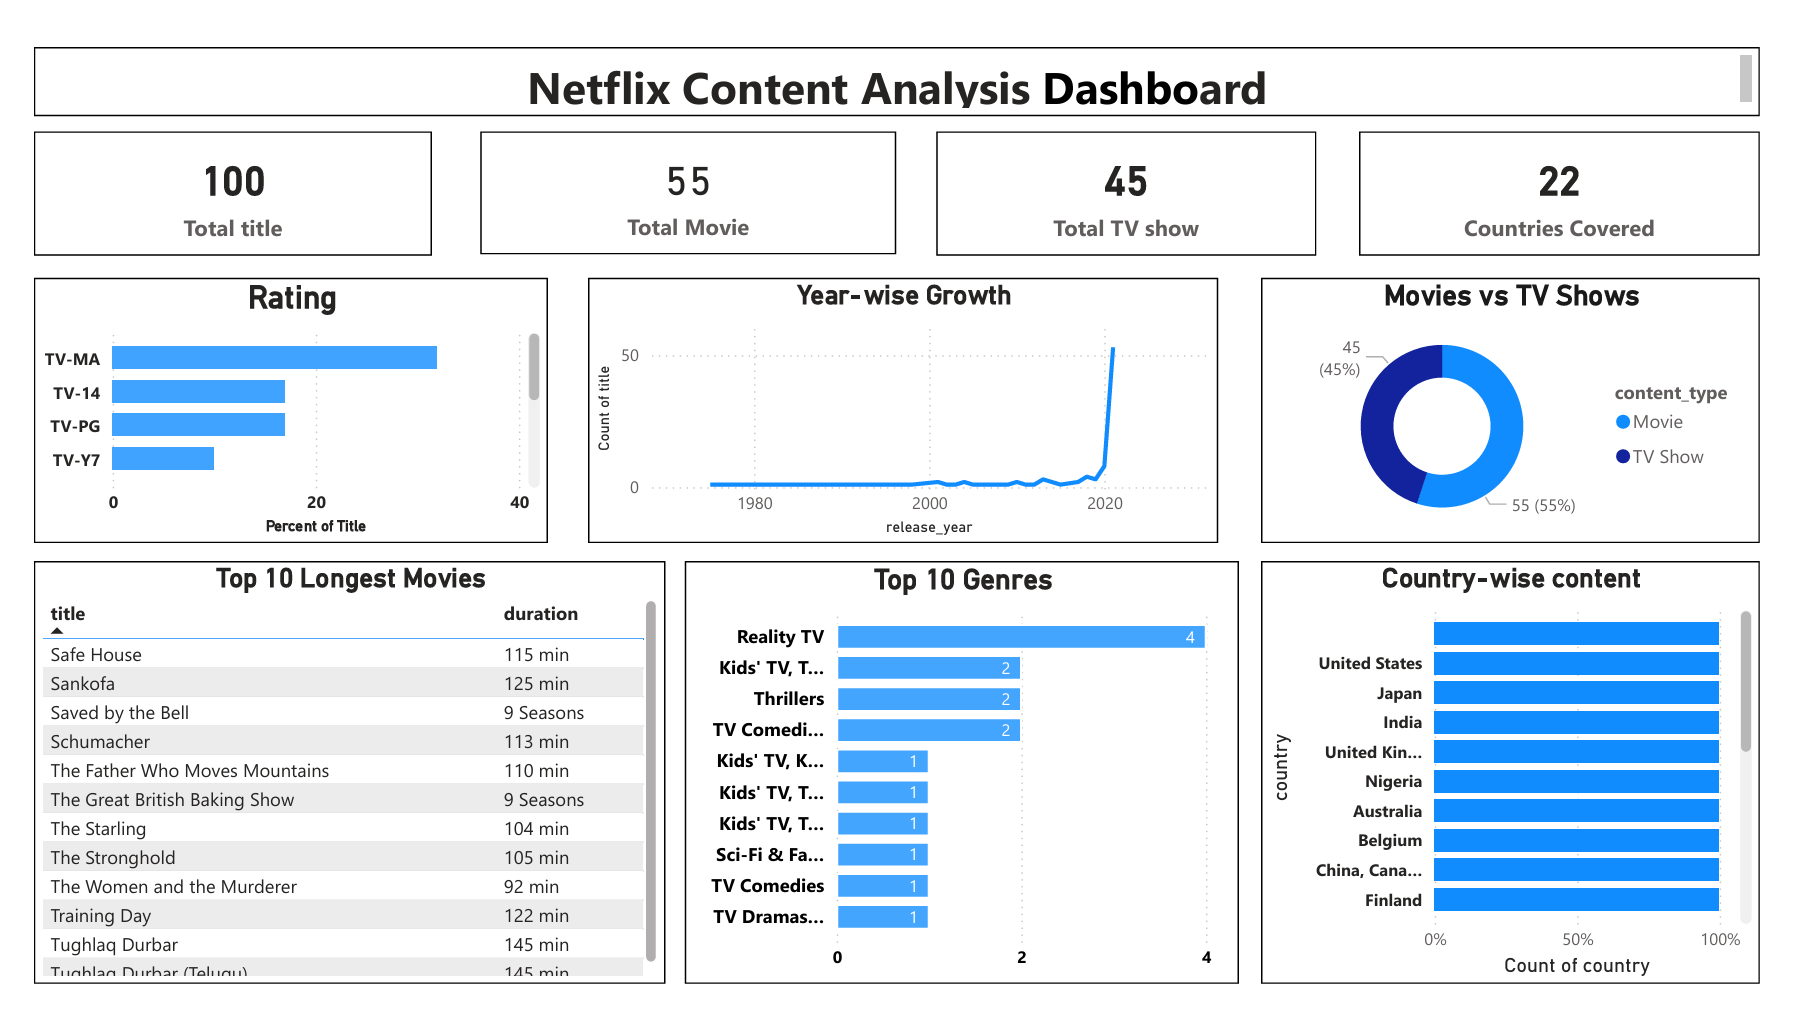

What the dashboard file says about the page in this screenshot:
{"tool":"powerbi","page":{"name":"Page 1","canvas":[1280,720],"ordinal":0},"visuals":[{"type":"donutChart","title":"Movies vs TV Shows","fields":{"Category":["netflix_db netflix.content_type"],"Y":["netflix_db netflix.content_type"]},"box":[898,179.6,360.6,192.4],"z":0},{"type":"clusteredBarChart","title":"Top 10 Genres","fields":{"Category":["netflix_db netflix.listed_in"],"Y":["netflix_db netflix.listed_in"]},"box":[480.6,385.2,401.1,305.7],"z":1000},{"type":"hundredPercentStackedBarChart","title":" Country-wise content","fields":{"Y":["netflix_db netflix.country"],"Category":["netflix_db netflix.country"]},"box":[897.5,385,361.2,306.2],"z":2000},{"type":"lineChart","title":"Year-wise Growth","fields":{"Category":["netflix_db netflix.release_year"],"Y":["netflix_db netflix.title"]},"box":[410.5,179.6,456.1,192.4],"z":3000},{"type":"clusteredBarChart","title":" Rating","fields":{"Category":["netflix_db netflix.rating"],"Y":["netflix_db netflix.rating"]},"box":[10,179.6,372,192.4],"z":4000},{"type":"tableEx","title":"Top 10 Longest Movies","fields":{"Values":["netflix_db netflix.title","netflix_db netflix.duration"]},"box":[9.8,385.2,457.3,305.7],"z":5000},{"type":"textbox","box":[10,12.8,1248.6,49.9],"z":6000},{"type":"card","fields":{"Values":["netflix.Total title"]},"box":[10,74.1,287.9,89.8],"z":6001},{"type":"card","fields":{"Values":["netflix.Total Movie"]},"box":[325,74.1,283.7,89.8],"z":6002},{"type":"card","fields":{"Values":["netflix.Total TV show"]},"box":[662.8,74.1,275.1,89.8],"z":6003},{"type":"card","fields":{"Values":["netflix.Countries Covered"]},"box":[969.3,74.1,289.4,89.8],"z":6004}]}

Visuals, with their boxes in screenshot pixels (x1, y1, x2, y2), scaled from the page's 1280x720 canvas onto the 1813x1034 screenshot:
"Movies vs TV Shows" donutChart: region(1272, 258, 1783, 534)
"Top 10 Genres" clusteredBarChart: region(681, 553, 1249, 992)
" Country-wise content" hundredPercentStackedBarChart: region(1271, 553, 1783, 993)
"Year-wise Growth" lineChart: region(581, 258, 1227, 534)
" Rating" clusteredBarChart: region(14, 258, 541, 534)
"Top 10 Longest Movies" tableEx: region(14, 553, 662, 992)
textbox: region(14, 18, 1783, 90)
card - netflix.Total title: region(14, 106, 422, 235)
card - netflix.Total Movie: region(460, 106, 862, 235)
card - netflix.Total TV show: region(939, 106, 1328, 235)
card - netflix.Countries Covered: region(1373, 106, 1783, 235)
